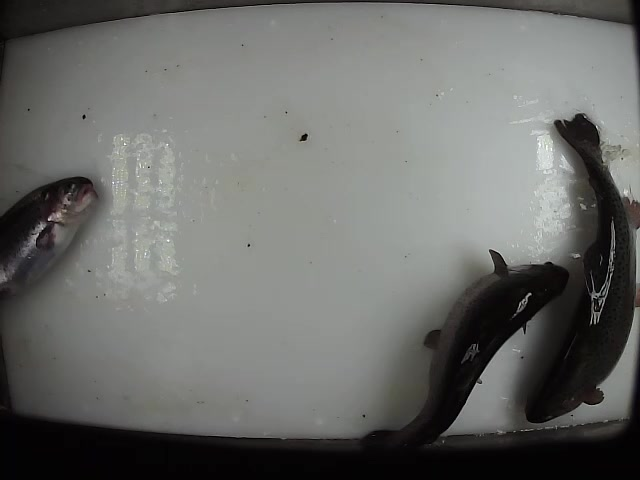fish: (1, 174, 100, 301)
